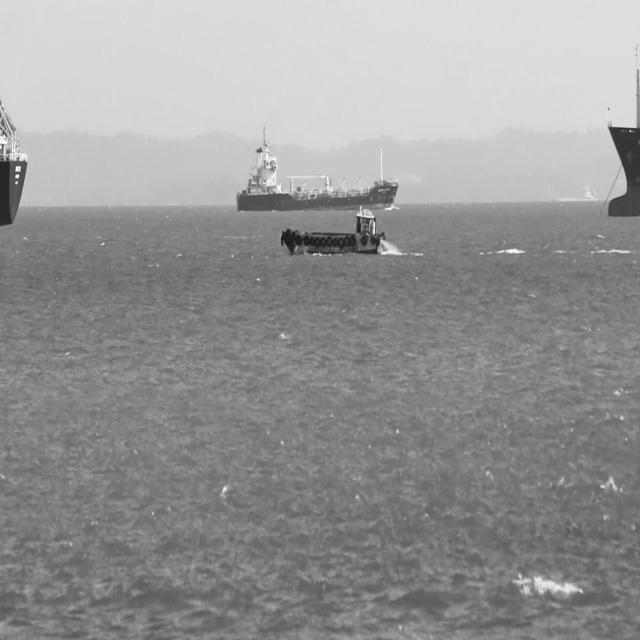ship: (235, 122, 398, 213), (606, 44, 639, 219), (280, 210, 388, 260), (0, 100, 27, 227)
